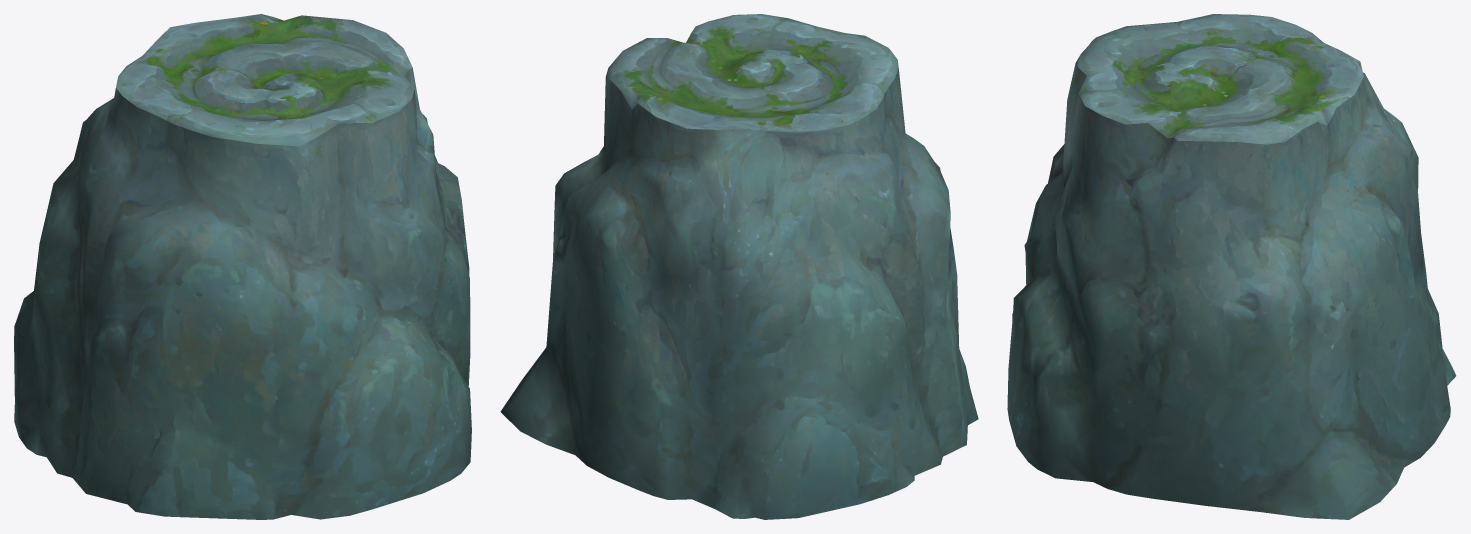
The model's file is Homeworld_Exterior_Cyg_Rockery_Prop_Shizhu_01_Vo.fbx.
3 views of the same model, side by side, from view 1: azimuth 30°, elevation 25°; view 2: azimuth 150°, elevation 25°; view 3: azimuth 270°, elevation 25° (orthographic). The views are drawn at different scales.
Visible parts, largest first — view 1: Area_Cyg_Prop_QYZ_Shizhu_01_Vo; view 2: Area_Cyg_Prop_QYZ_Shizhu_01_Vo; view 3: Area_Cyg_Prop_QYZ_Shizhu_01_Vo.
Part boxes in pixels (x1,y1,x2,y2): Area_Cyg_Prop_QYZ_Shizhu_01_Vo: [14, 14, 471, 519]; Area_Cyg_Prop_QYZ_Shizhu_01_Vo: [500, 14, 978, 519]; Area_Cyg_Prop_QYZ_Shizhu_01_Vo: [1007, 14, 1456, 519].
Size of the model in its own units: 6.54 by 5.52 by 6.4.
